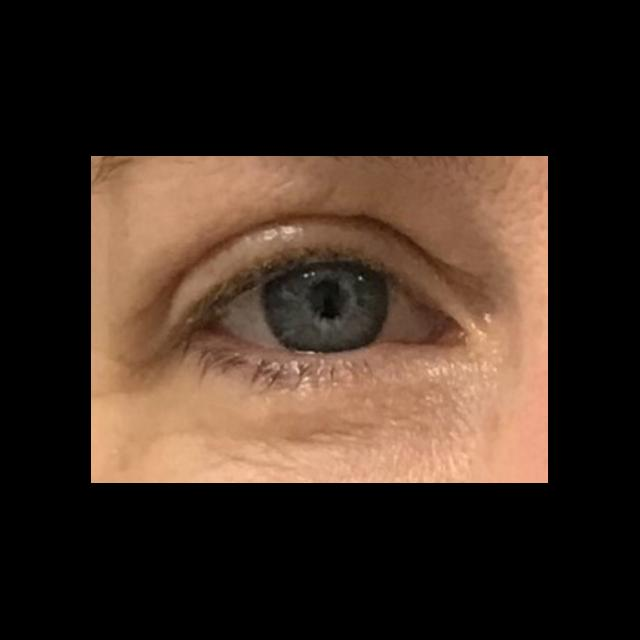eye: (221, 263, 434, 358)
iris: (263, 268, 386, 352)
